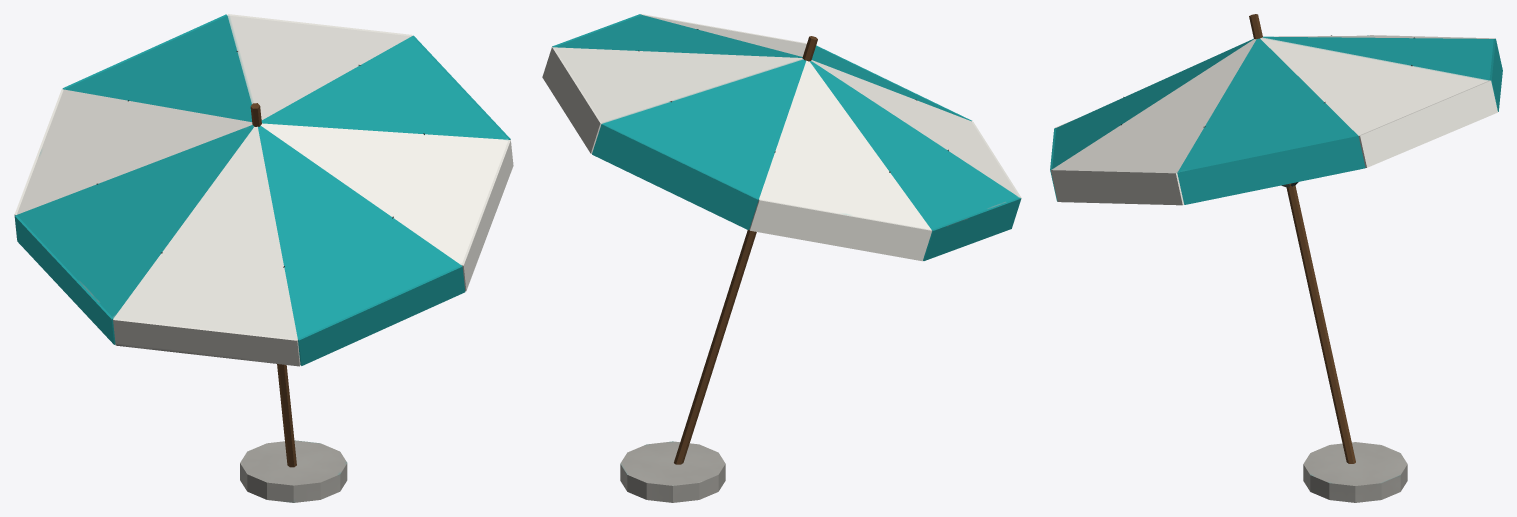
File: slunecnik_dd4f1171.glb
The picture shows the model from 3 angles, left to right: view 1: azimuth 30°, elevation 25°; view 2: azimuth 150°, elevation 25°; view 3: azimuth 270°, elevation 25°; orthographic projection. The views are drawn at different scales.
Visible parts, largest first — view 1: dum; view 2: dum; view 3: dum.
Part boxes in pixels (box(x1,y1,x2,y2)): dum: box(14, 14, 513, 502); dum: box(542, 14, 1021, 502); dum: box(1050, 14, 1502, 502).
Size of the model in its own units: 2.43 by 2.51 by 2.43.
Materials: 1 (1 with a texture image).
